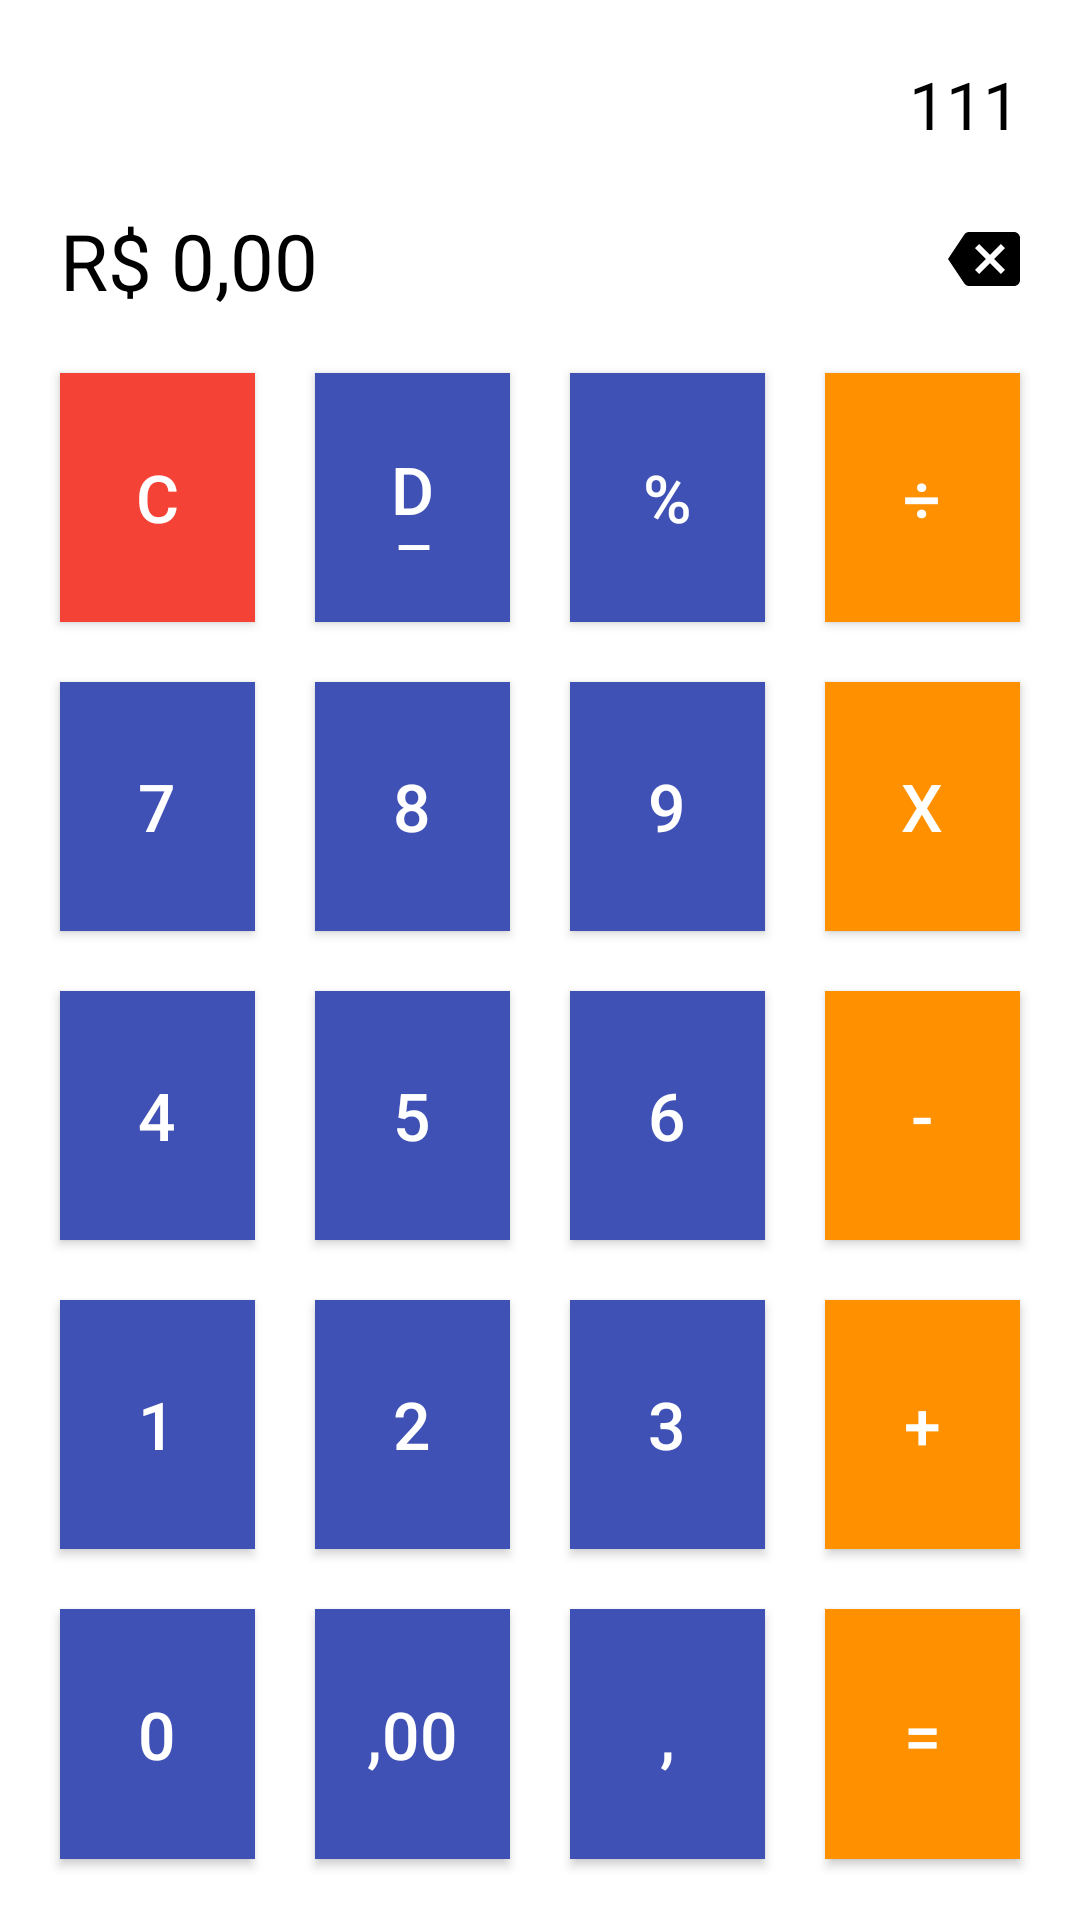

Icons on this 1080 x 1920 Android screen, each with its box as (x1=x1, y1=y1, x2=x2, y2=y2):
backspace: (x1=948, y1=232, x2=1020, y2=286)
